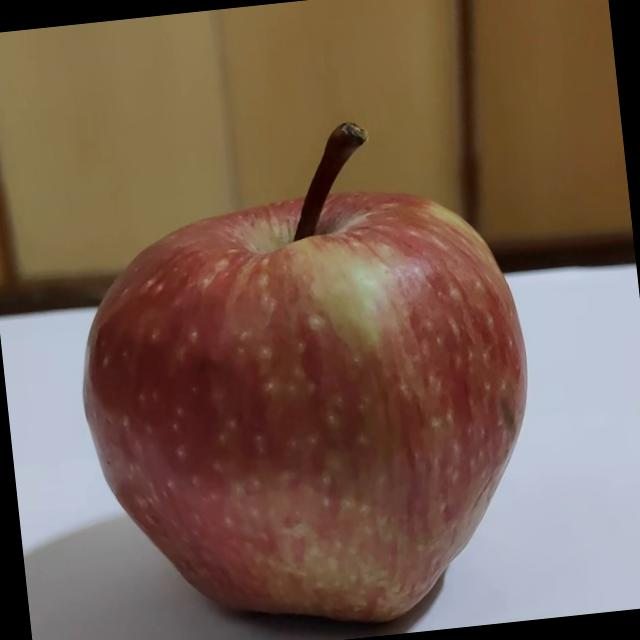apple: (54, 100, 557, 640)
